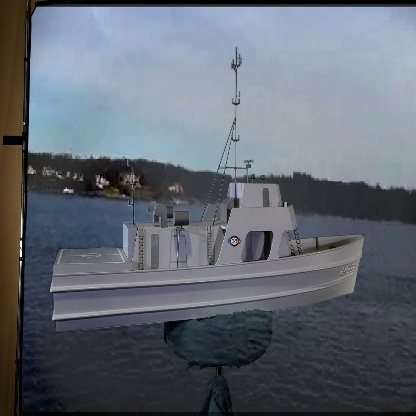YP689: (46, 42, 369, 336)
